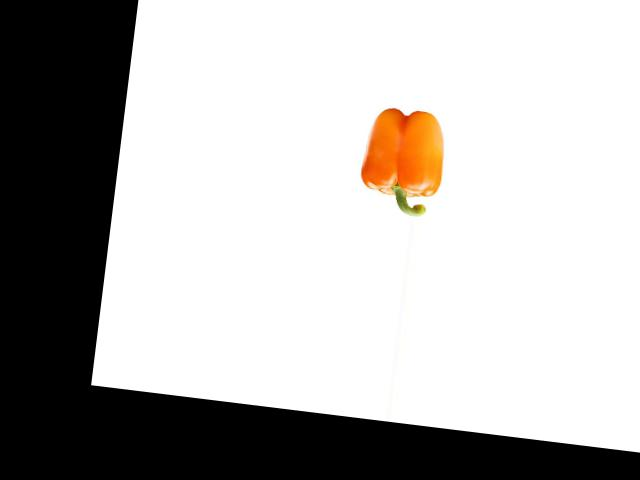bell_pepper: (348, 103, 458, 220)
